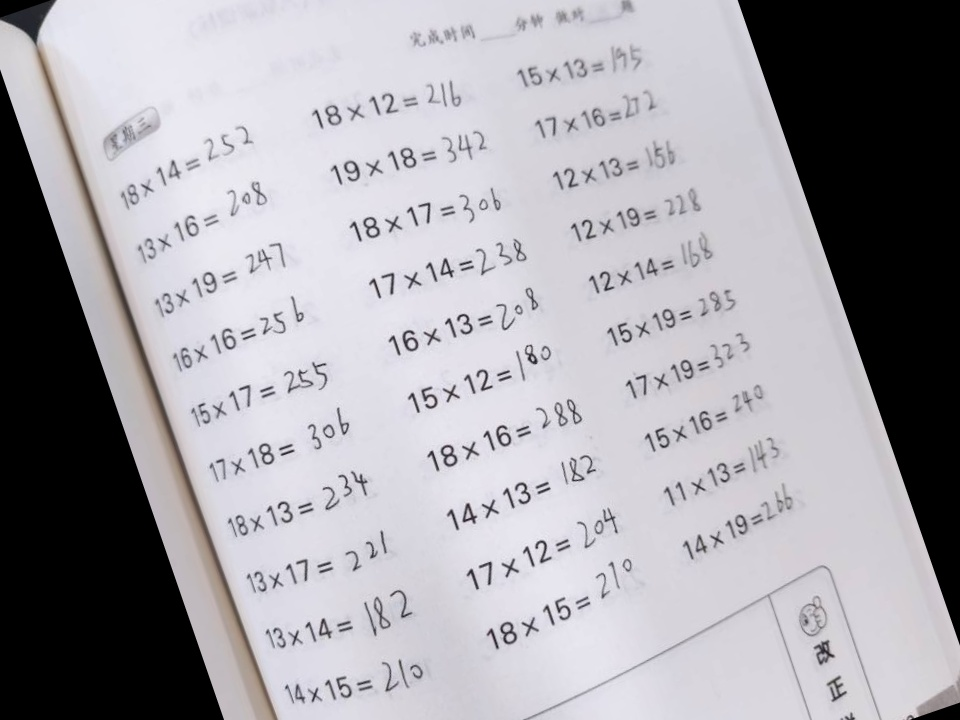equation: (348, 226, 534, 307), (546, 177, 731, 258), (564, 226, 749, 307), (614, 381, 799, 462), (421, 456, 606, 537), (242, 524, 427, 605), (654, 480, 840, 560), (467, 563, 653, 643), (255, 577, 441, 657), (318, 120, 503, 200), (386, 344, 571, 424), (370, 287, 555, 367), (333, 176, 518, 256), (162, 292, 347, 372), (141, 242, 326, 322), (113, 178, 298, 258), (531, 127, 716, 207), (512, 72, 697, 152), (594, 328, 779, 408), (580, 279, 765, 359), (198, 404, 383, 484), (179, 345, 364, 425), (403, 397, 588, 477), (631, 429, 816, 509), (444, 512, 629, 592), (218, 466, 403, 546), (278, 636, 463, 716), (297, 65, 475, 146), (107, 125, 275, 202), (515, 30, 656, 97)
